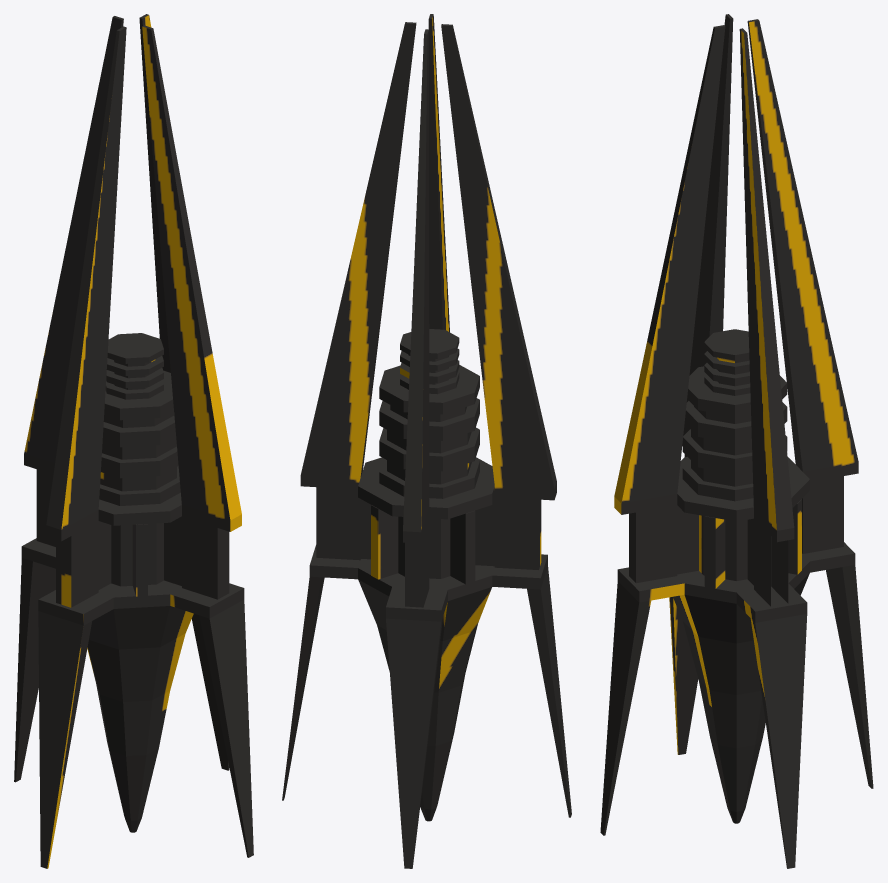
File: Anchor Projectile.fbx
3 renders of one model, left to right at view 1: azimuth 30°, elevation 25°; view 2: azimuth 150°, elevation 25°; view 3: azimuth 270°, elevation 25°, orthographic.
Parts seen in each view (by area): view 1: Anchor Projectile; view 2: Anchor Projectile; view 3: Anchor Projectile.
Boxes of the visible parts, x1,y1,x2,y2 form: Anchor Projectile: (14, 14, 253, 868); Anchor Projectile: (282, 14, 571, 868); Anchor Projectile: (600, 14, 873, 868).
Size of the model in its own units: 116 by 373 by 115.
